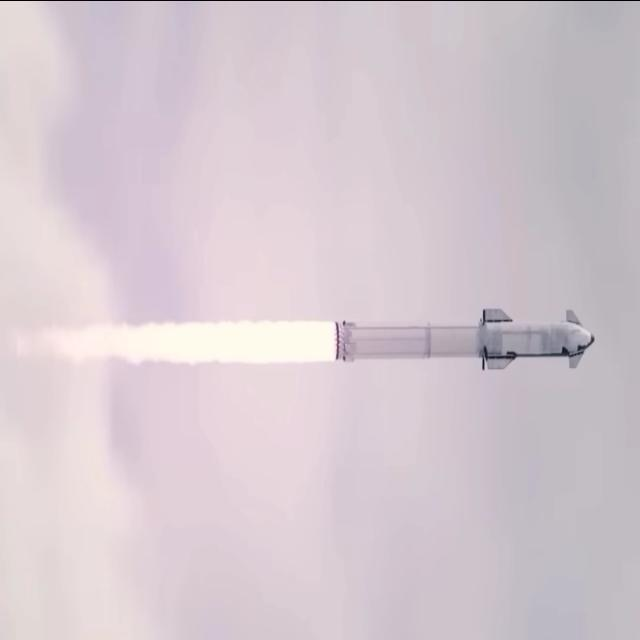Missile: (317, 312, 597, 368)
